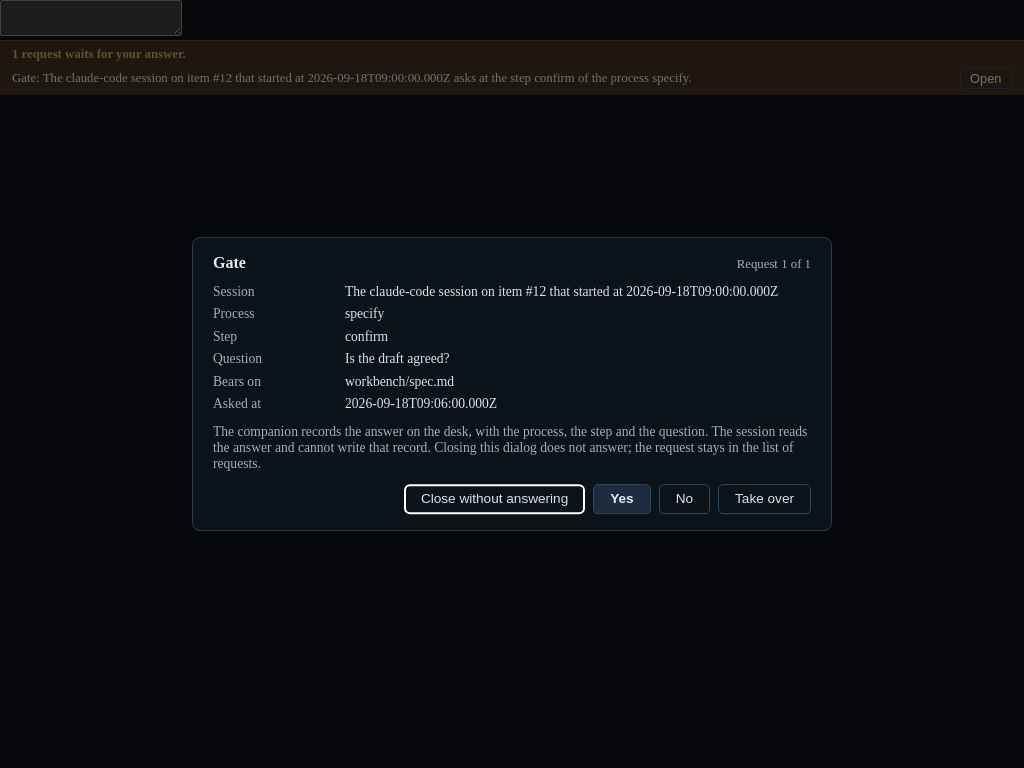
Test: a dialog opens with the focus on Close, never on an answer, and gives the focus back to the terminal
This screenshot has width=1024, height=768.
# Enter or Space typed now lands on Close, which answers nothing.
Click the button "Close without answering".
click(495, 499)  # box [404,484,585,514]
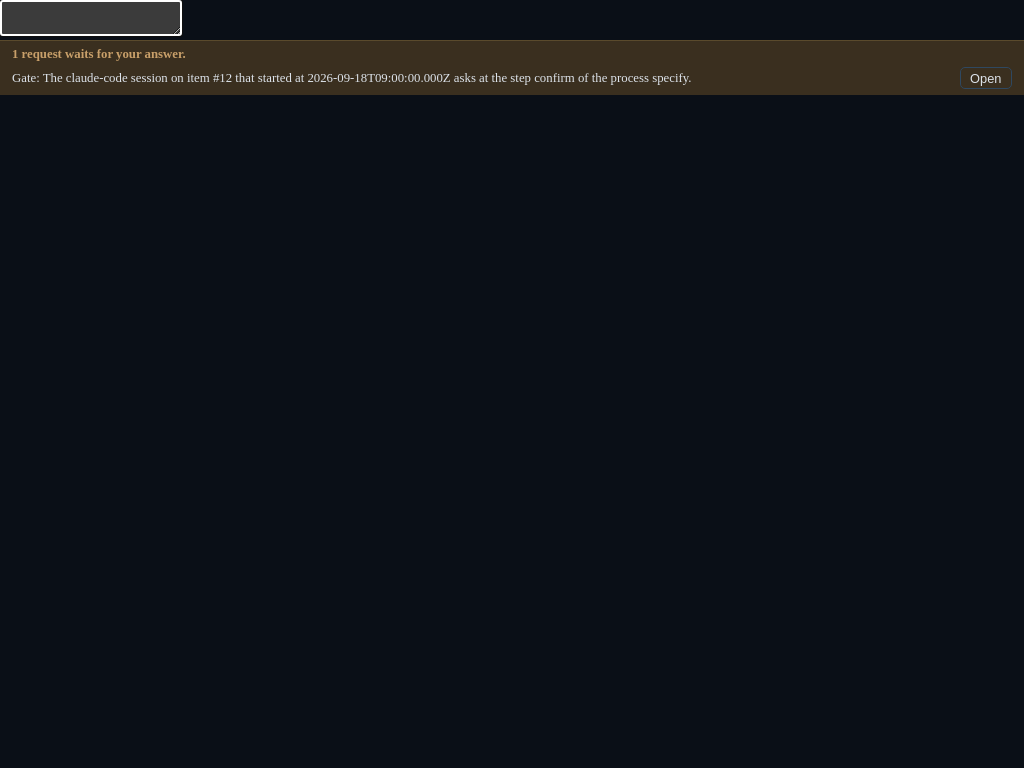
Expected: the dialog with test id "gate-dialog" is gone
